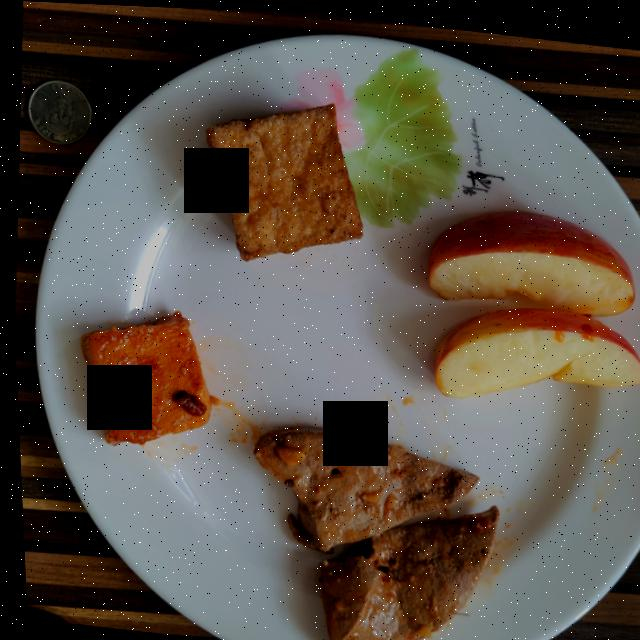apple -sliced-: (425, 207, 639, 394)
coin: (25, 79, 89, 144)
creamy tofu: (76, 310, 206, 444)
egg tofu: (204, 100, 359, 258)
pig liver: (249, 424, 492, 640)
